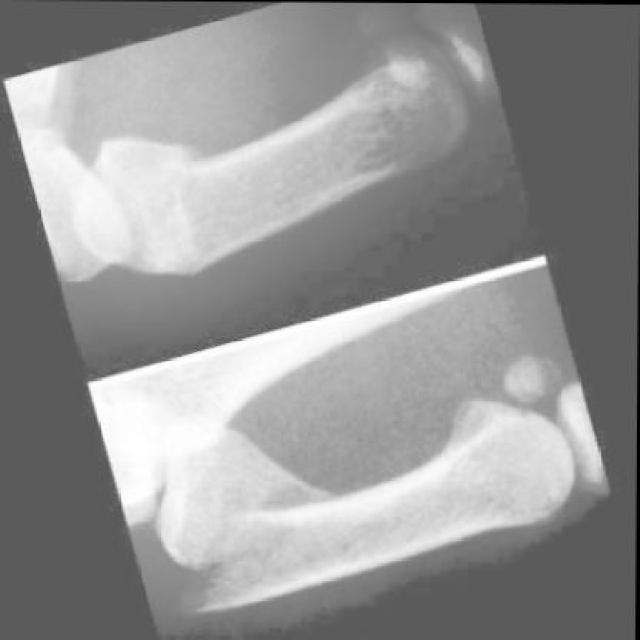Fracture: (146, 445, 380, 637), (131, 126, 237, 276)
